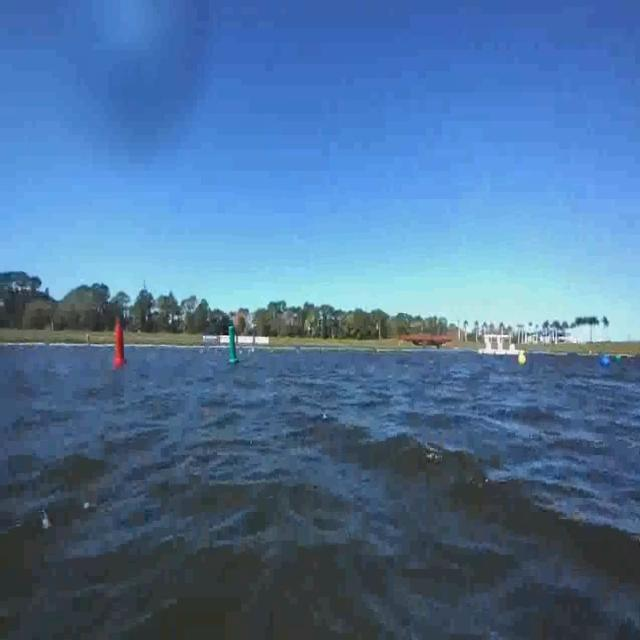green-column-buoy: (228, 319, 235, 362)
red-column-buoy: (108, 315, 127, 381)
